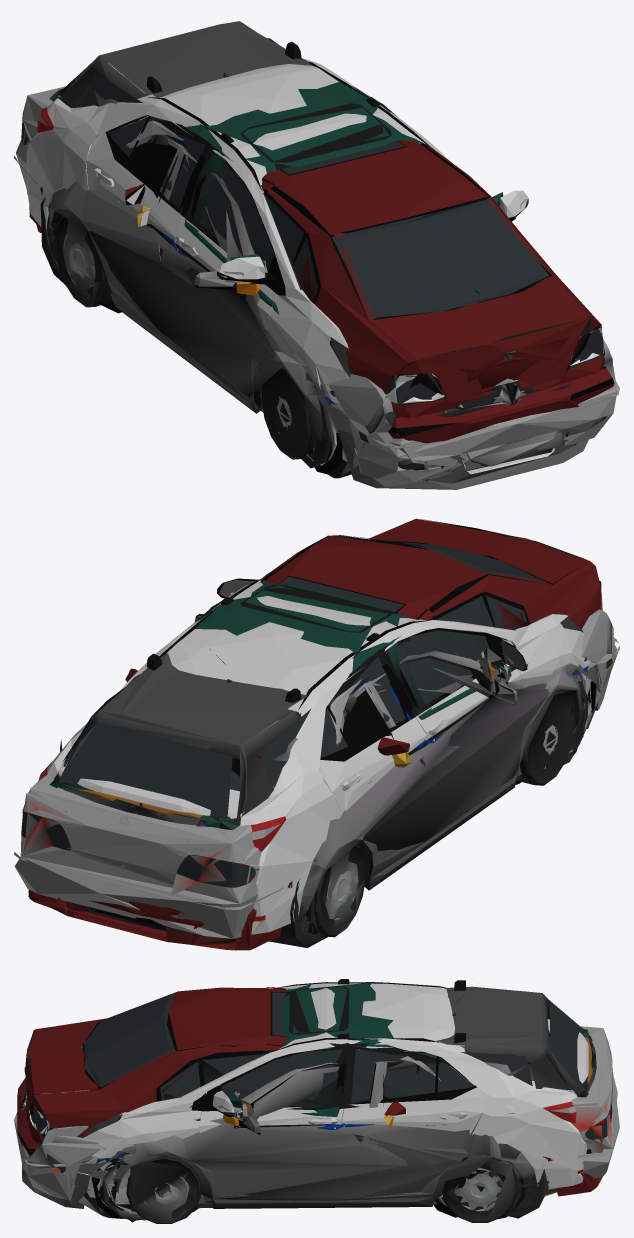
The model's file is parked.glb.
3 views of the same model, one above another, from view 1: azimuth 30°, elevation 25°; view 2: azimuth 150°, elevation 25°; view 3: azimuth 270°, elevation 25° (orthographic). The views are drawn at different scales.
Visible parts, largest first — view 1: car_bmw_e39, car_corolla_e180, car_golf4_lo, car_golf4, car_merc_w210, car_passat_b6, car_passat_b5, car_bmw_e39_lo, car_audi_a4_b8, car_merc_w210_lo, car_passat_b6_lo, car_passat_b5_lo (+2 smaller); view 2: car_corolla_e180, car_bmw_e39, car_passat_b6, car_merc_w210, car_golf4_lo, car_golf4, car_passat_b5, car_merc_w210_lo, car_bmw_e39_lo, car_passat_b6_lo, car_corolla_e180_lo, car_passat_b5_lo (+3 smaller); view 3: car_corolla_e180, car_bmw_e39, car_golf4, car_golf4_lo, car_passat_b6, car_passat_b5, car_merc_w210, car_merc_w210_lo, car_passat_b5_lo, car_audi_a4_b8, car_bmw_e39_lo, car_passat_b6_lo (+3 smaller).
Part boxes in pixels (x1,y1,x2,y2): car_bmw_e39: (29,139,614,468); car_corolla_e180: (26,58,528,462); car_golf4_lo: (55,120,308,457); car_golf4: (48,76,325,459); car_merc_w210: (14,86,619,481); car_passat_b6: (53,21,568,466); car_passat_b5: (49,82,503,396); car_bmw_e39_lo: (41,143,605,443); car_audi_a4_b8: (260,371,588,489); car_merc_w210_lo: (23,93,617,481); car_passat_b6_lo: (58,25,563,472); car_passat_b5_lo: (61,89,416,225); car_corolla_e180: (38,578,592,939); car_bmw_e39: (28,518,613,950); car_passat_b6: (54,597,513,921); car_merc_w210: (14,609,619,938); car_golf4_lo: (195,616,575,934); car_golf4: (194,614,581,937); car_passat_b5: (50,581,586,829); car_merc_w210_lo: (21,614,617,938); car_bmw_e39_lo: (50,535,573,944); car_passat_b6_lo: (59,653,509,826); car_corolla_e180_lo: (62,580,582,797); car_passat_b5_lo: (50,582,426,822); car_corolla_e180: (40,982,588,1220); car_bmw_e39: (17,987,605,1218); car_golf4: (102,1059,535,1223); car_golf4_lo: (115,1062,519,1222); car_passat_b6: (20,979,595,1222); car_passat_b5: (52,982,595,1153); car_merc_w210: (14,1026,619,1218); car_merc_w210_lo: (24,1028,617,1218); car_passat_b5_lo: (135,986,587,1144); car_audi_a4_b8: (22,1108,556,1220); car_bmw_e39_lo: (17,988,548,1214); car_passat_b6_lo: (21,995,596,1204).
Bounding box in the file's own units: 2.24 × 1.72 × 4.81.
